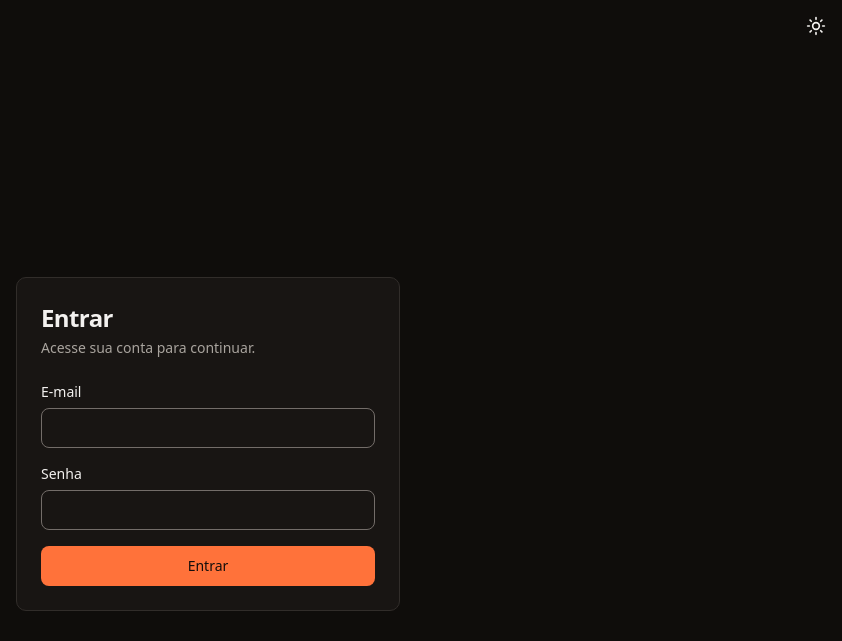
Scenario: login e proteção de rotas › e-mail inválido com senha preenchida mostra só a mensagem de e-mail
This screenshot has width=842, height=641.
Type "sem-arroba" into the field labelled "E-mail" at [208, 428], box [41,408,375,448]
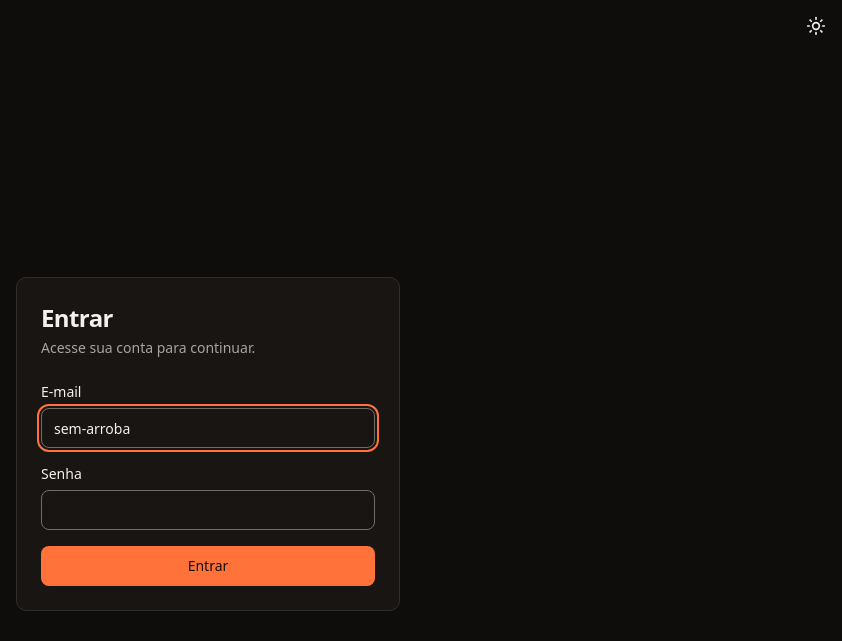
Type "segredo-123" into the password field labelled "Senha" at [208, 510], box [41,490,375,530]
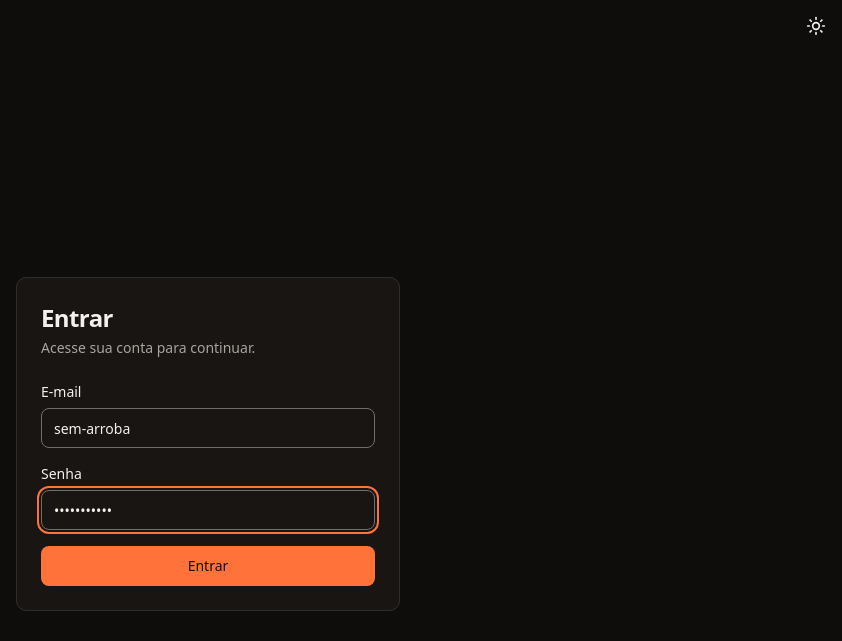
Click the button "Entrar" at [208, 566], box [41,546,375,586]
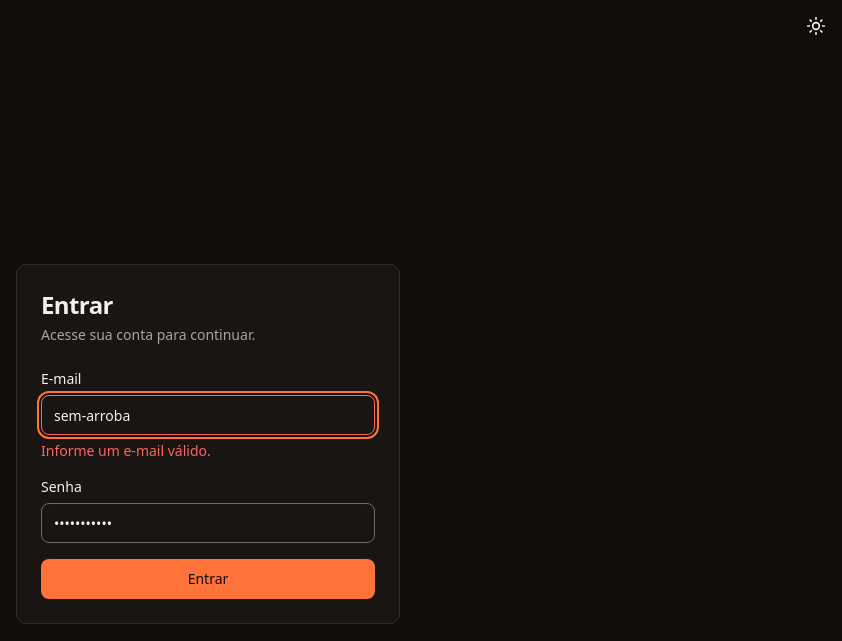
Check: the text "Informe um e-mail válido." is shown, box [41,441,211,460]
